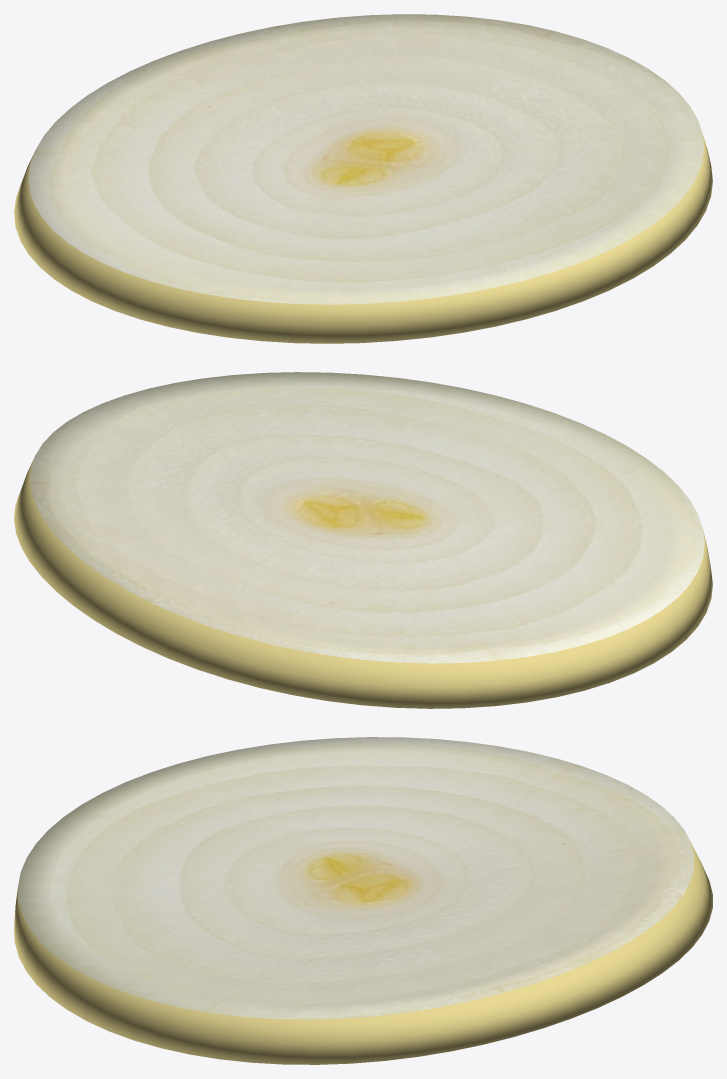
Rendered from slicedOnion.fbx.
3 views of the same model, one above another, from view 1: azimuth 30°, elevation 25°; view 2: azimuth 150°, elevation 25°; view 3: azimuth 270°, elevation 25° (orthographic). The views are drawn at different scales.
Parts seen in each view (by area): view 1: Sphere.003; view 2: Sphere.003; view 3: Sphere.003.
Part boxes in pixels (x1,y1,x2,y2): Sphere.003: [14, 14, 712, 343]; Sphere.003: [14, 372, 712, 708]; Sphere.003: [14, 737, 712, 1064].
Bounding box in the file's own units: 90.01 × 10.04 × 82.27.
